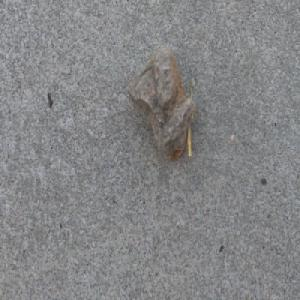Rock: (127, 41, 196, 162)
